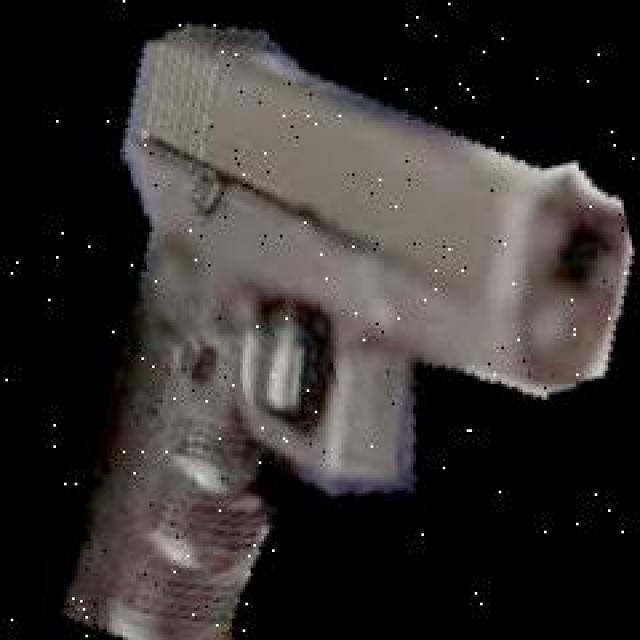Handgun: (61, 23, 628, 640)
